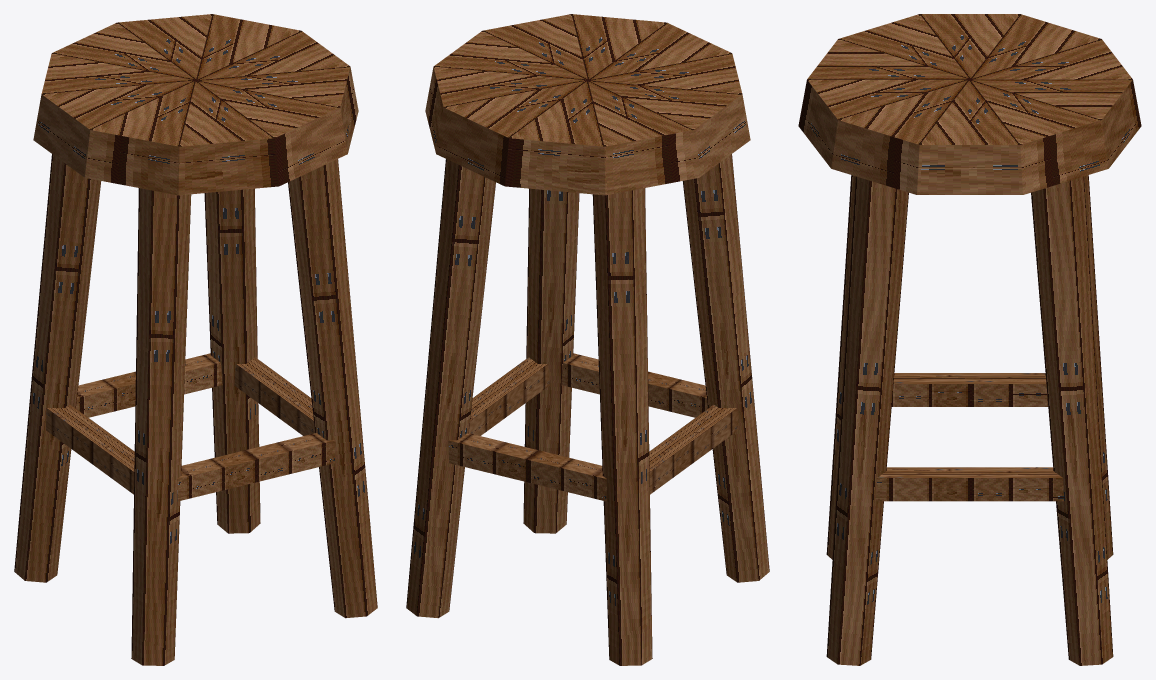
The model's file is banqueta_de_taverna.glb.
3 views of the same model, side by side, from view 1: azimuth 30°, elevation 25°; view 2: azimuth 150°, elevation 25°; view 3: azimuth 270°, elevation 25° (orthographic). The views are drawn at different scales.
Visible parts, largest first — view 1: banqueta_de_taverna; view 2: banqueta_de_taverna; view 3: banqueta_de_taverna.
Boxes of the visible parts, x1,y1,x2,y2 form: banqueta_de_taverna: [14, 14, 377, 665]; banqueta_de_taverna: [406, 14, 769, 665]; banqueta_de_taverna: [798, 14, 1141, 665].
Bounding box in the file's own units: 0.3804 × 0.6809 × 0.4.
Materials: 1 (1 with a texture image).
